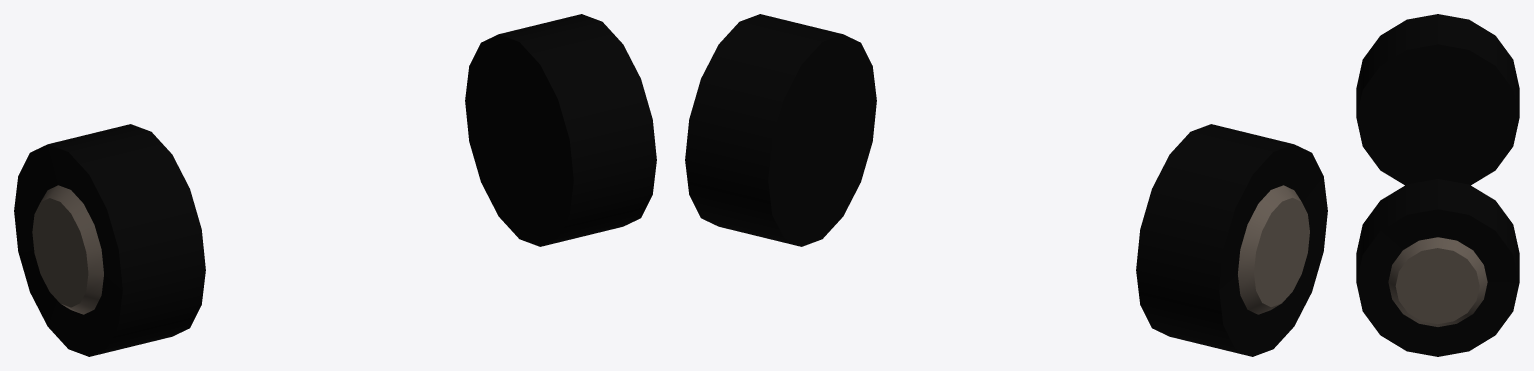
File: military_veh3_wheels.fbx
3 renders of one model, left to right at view 1: azimuth 30°, elevation 25°; view 2: azimuth 150°, elevation 25°; view 3: azimuth 270°, elevation 25°, orthographic. The views are drawn at different scales.
Visible parts, largest first — view 1: military_veh3_wheels; view 2: military_veh3_wheels; view 3: military_veh3_wheels.
Boxes of the visible parts, x1,y1,x2,y2 form: military_veh3_wheels: (14,14,656,356); military_veh3_wheels: (685,14,1327,356); military_veh3_wheels: (1356,14,1519,356).
Size of the model in its own units: 251 by 85.98 by 85.98.
